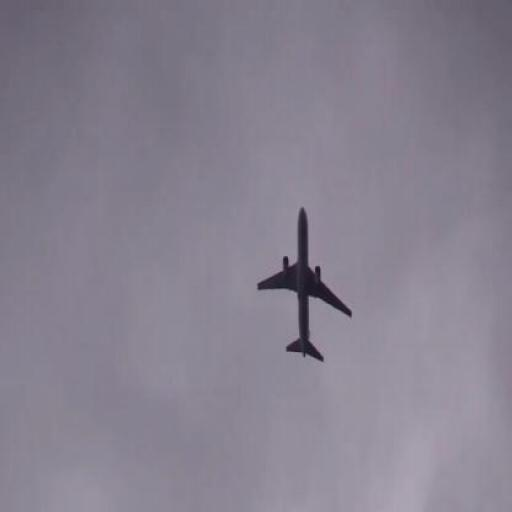aircraft: (256, 206, 353, 360)
